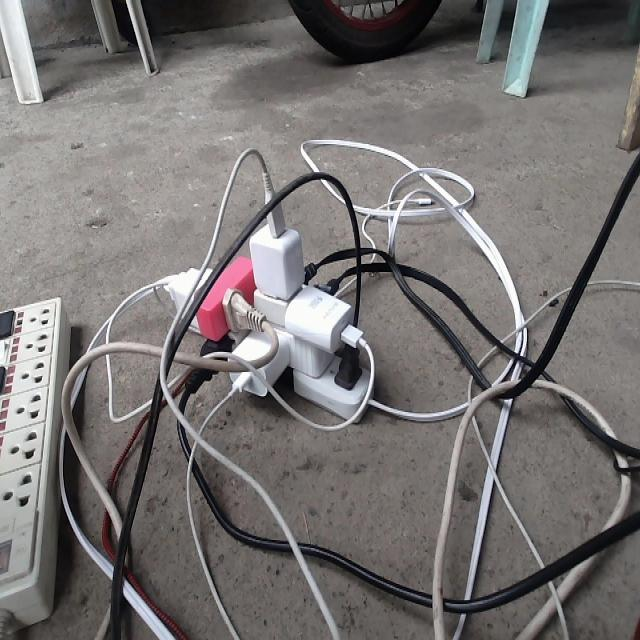-: (162, 164, 373, 428)
